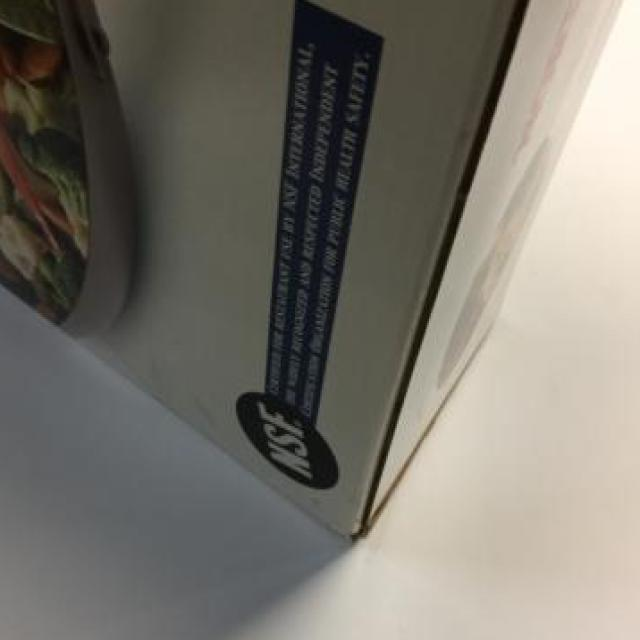organic: (9, 4, 631, 549)
